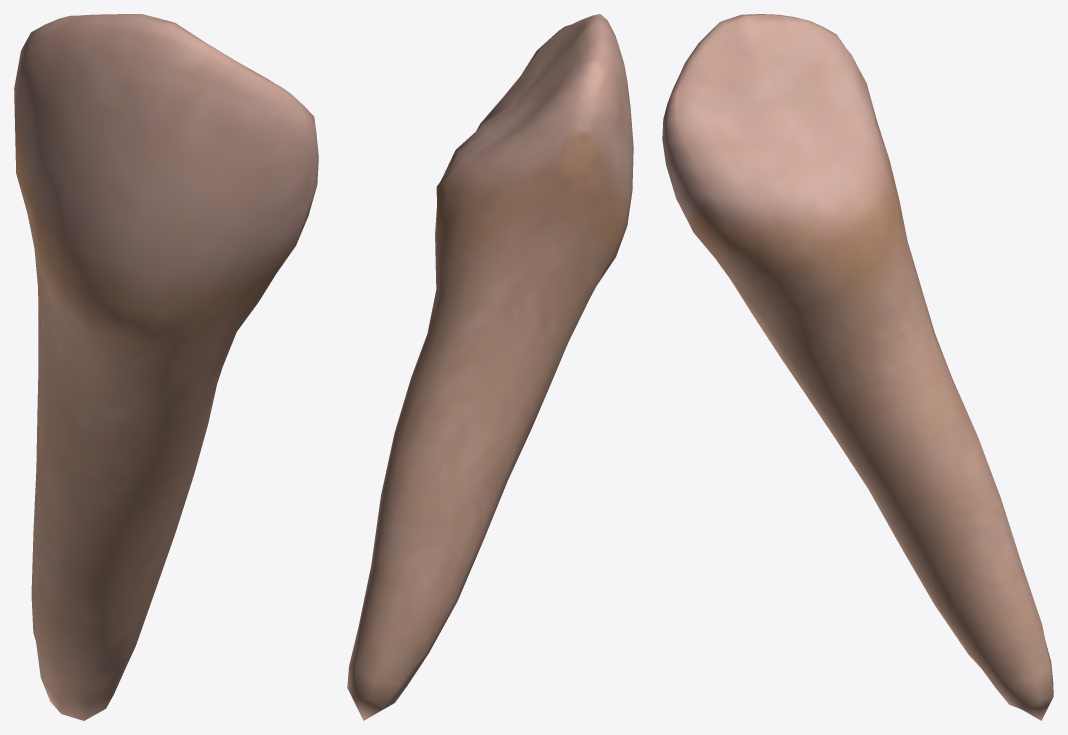
3 renders of one model, left to right at view 1: azimuth 30°, elevation 25°; view 2: azimuth 150°, elevation 25°; view 3: azimuth 270°, elevation 25°, orthographic. The views are drawn at different scales.
Parts seen in each view (by area): view 1: t_43; view 2: t_43; view 3: t_43.
Boxes of the visible parts, x1,y1,x2,y2 form: t_43: (14, 14, 318, 720); t_43: (347, 14, 633, 720); t_43: (662, 14, 1053, 720).
Bounding box in the file's own units: 0.0592 × 0.2077 × 0.1123.
1 material, 1 textured.
